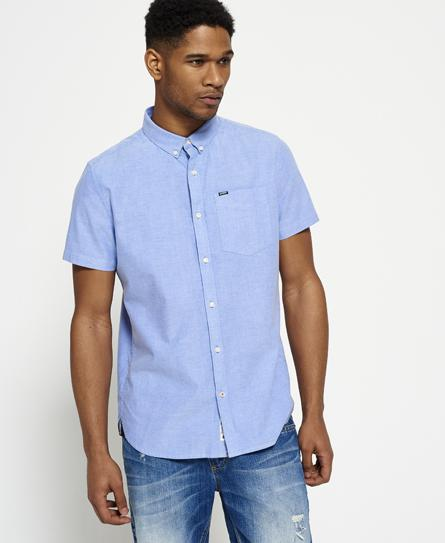teeshirt: (60, 101, 326, 466)
